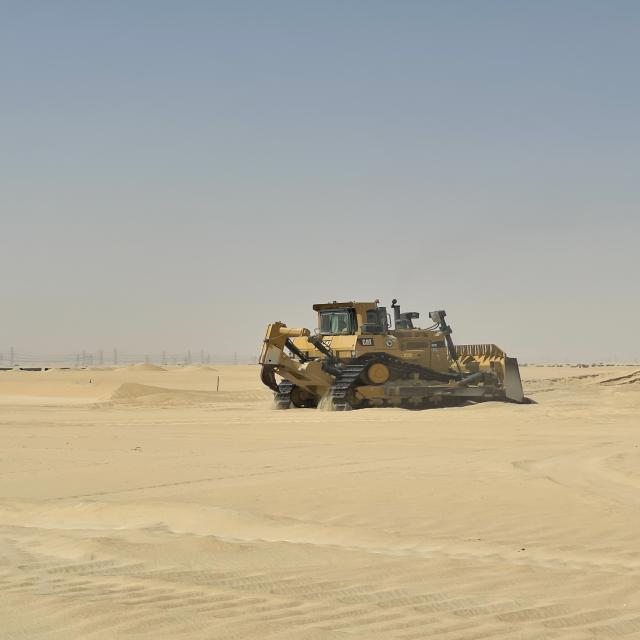buldozerpayloadergrader: (255, 290, 527, 418)
